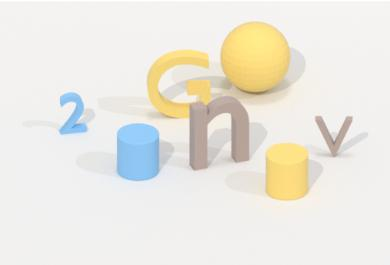0-KhoiTru: (261, 139, 313, 204), (113, 119, 164, 185)
0-Tron: (218, 15, 295, 96)
2: (54, 88, 92, 138)
G: (142, 44, 215, 120)
V: (312, 110, 357, 160)
n: (185, 92, 253, 173)
